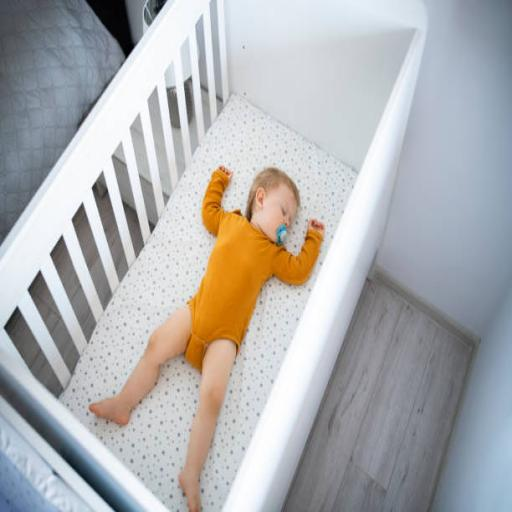baby: (90, 166, 324, 510)
crib: (0, 0, 315, 509)
